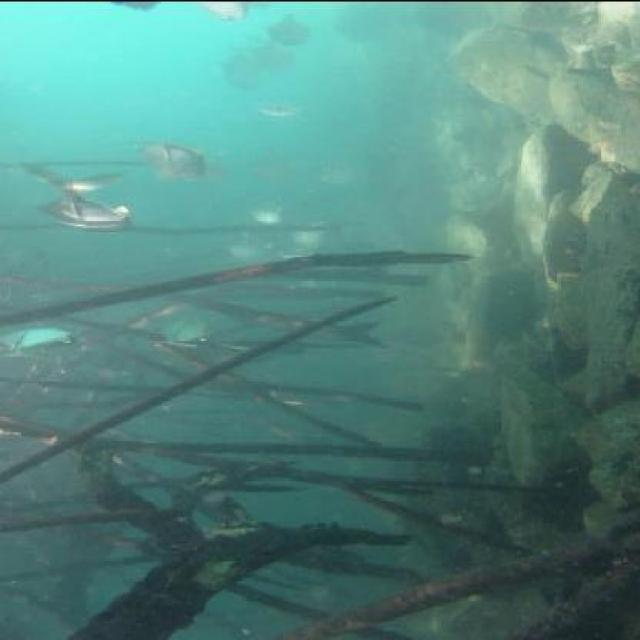Caranx_sexfasciatus_juvenile: (18, 162, 144, 238), (0, 316, 91, 364), (125, 139, 222, 183), (270, 219, 342, 266), (241, 142, 314, 187), (148, 312, 230, 350), (212, 44, 270, 88), (174, 0, 252, 28), (264, 9, 316, 51), (232, 202, 299, 232), (307, 159, 371, 187), (213, 237, 272, 265), (242, 102, 296, 122), (104, 0, 169, 12)
